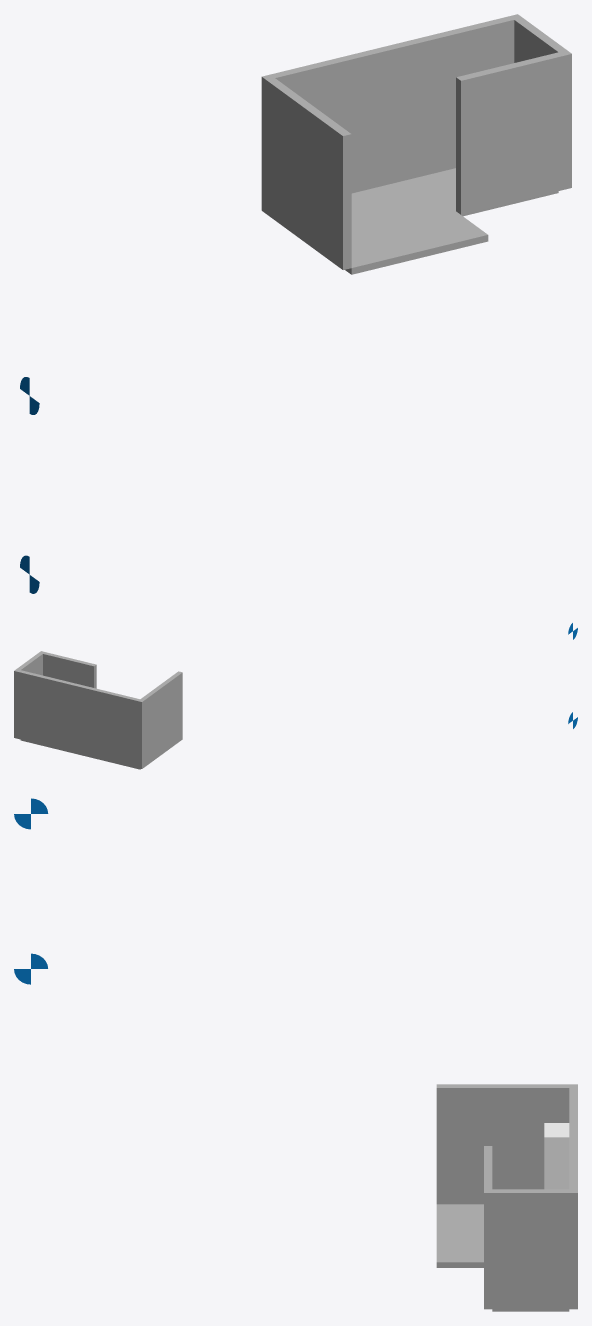
The model's file is room.glb.
3 renders of one model, top to bottom at view 1: azimuth 30°, elevation 25°; view 2: azimuth 150°, elevation 25°; view 3: azimuth 270°, elevation 25°, orthographic. The views are drawn at different scales.
Visible parts, largest first — view 1: 基本牆 [345508], 基本牆 [345601], 基本牆 [345448], 樓板 (1), 基本牆 [345556]; view 2: 基本牆 [345508], 基本牆 [345448], 基本牆 [345601], 基本牆 [345556]; view 3: 基本牆 [345448], 基本牆 [345556], 樓板 (1), 基本牆 [345508], object 4.
Boxes of the visible parts, x1,y1,x2,y2 form: 基本牆 [345508]: (270,14,522,193); 基本牆 [345601]: (456,52,563,214); 基本牆 [345448]: (261,74,351,269); 樓板 (1): (345,168,558,274); 基本牆 [345556]: (514,17,571,189); 基本牆 [345508]: (14,669,139,767); 基本牆 [345448]: (137,671,182,768); 基本牆 [345601]: (43,652,96,688); 基本牆 [345556]: (17,651,44,675); 基本牆 [345448]: (436,1084,577,1204); 基本牆 [345556]: (484,1189,569,1309); 樓板 (1): (436,1204,569,1311); 基本牆 [345508]: (569,1088,577,1309); object 4: (544,1123,569,1189).
Bounding box in the file's own units: 18.81 × 4.8 × 13.18.
